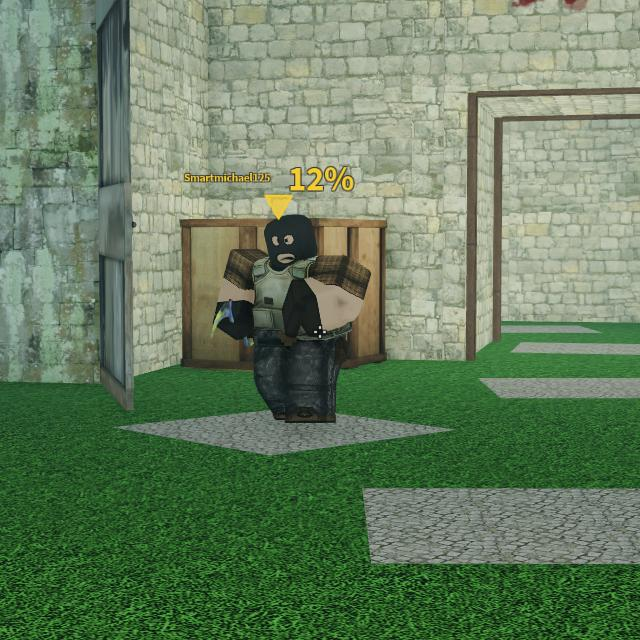Head: (265, 217, 315, 264)
Player: (212, 216, 369, 422)
